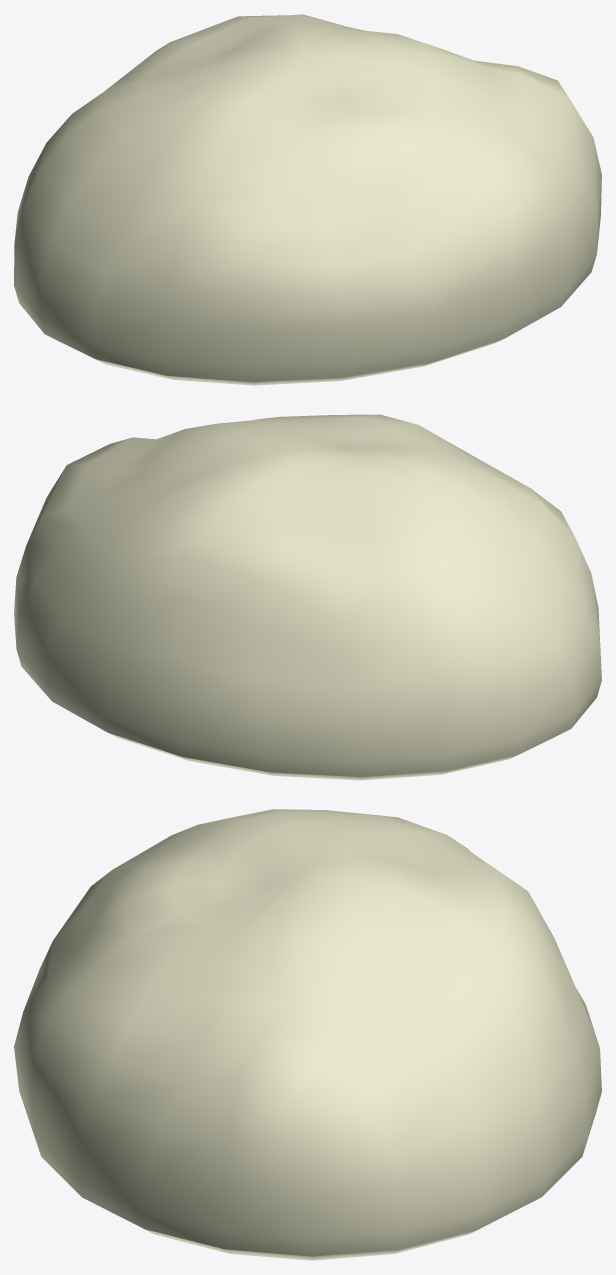
Rendered from dough.fbx.
The picture shows the model from 3 angles, top to bottom: view 1: azimuth 30°, elevation 25°; view 2: azimuth 150°, elevation 25°; view 3: azimuth 270°, elevation 25°; orthographic projection. The views are drawn at different scales.
Visible parts, largest first — view 1: pSphere1; view 2: pSphere1; view 3: pSphere1.
Part boxes in pixels (box(x1,y1,x2,y2)): pSphere1: box(14, 14, 601, 385); pSphere1: box(14, 414, 601, 780); pSphere1: box(14, 809, 601, 1260).
Size of the model in its own units: 2.42 by 0.9838 by 2.01.
